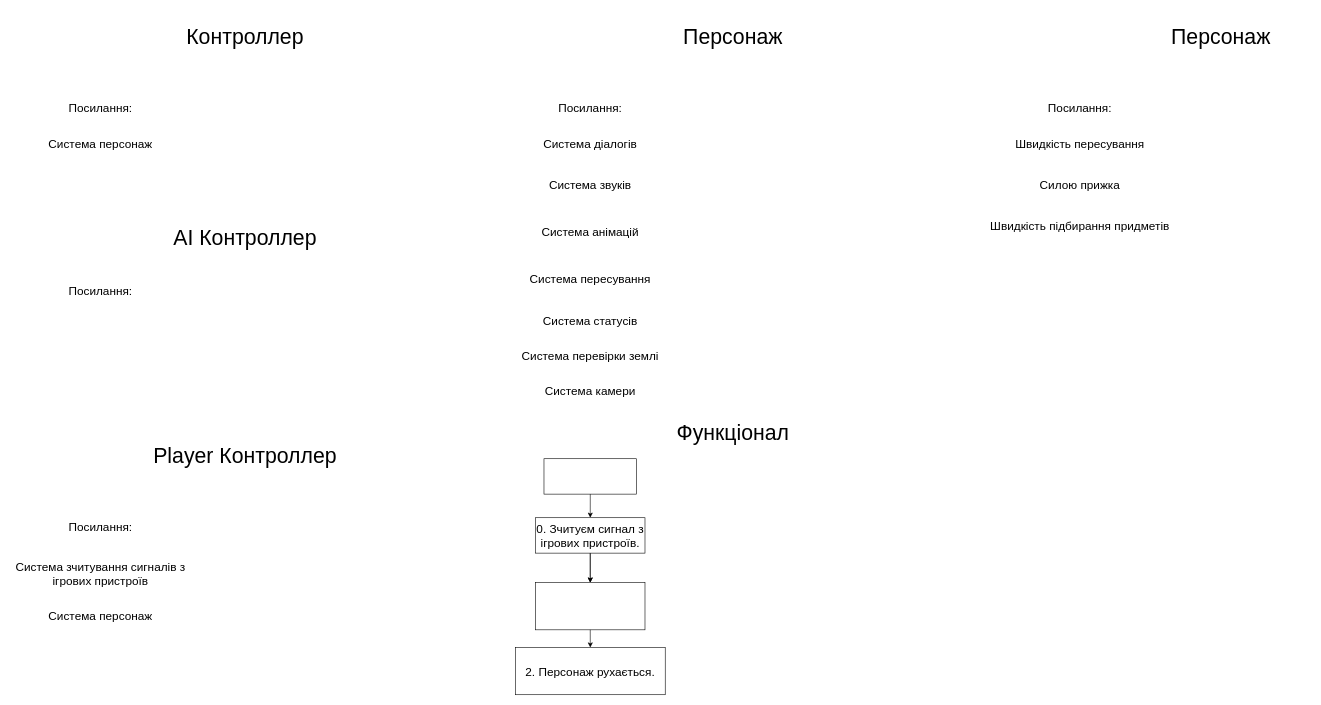
This 1321x705 diagram has some shape labels left out. The centre of each missing label's shape, as x and y in pixels:
1. Передаєм сигнал систему руху.: the point at 590,606
Функція update: the point at 590,476
